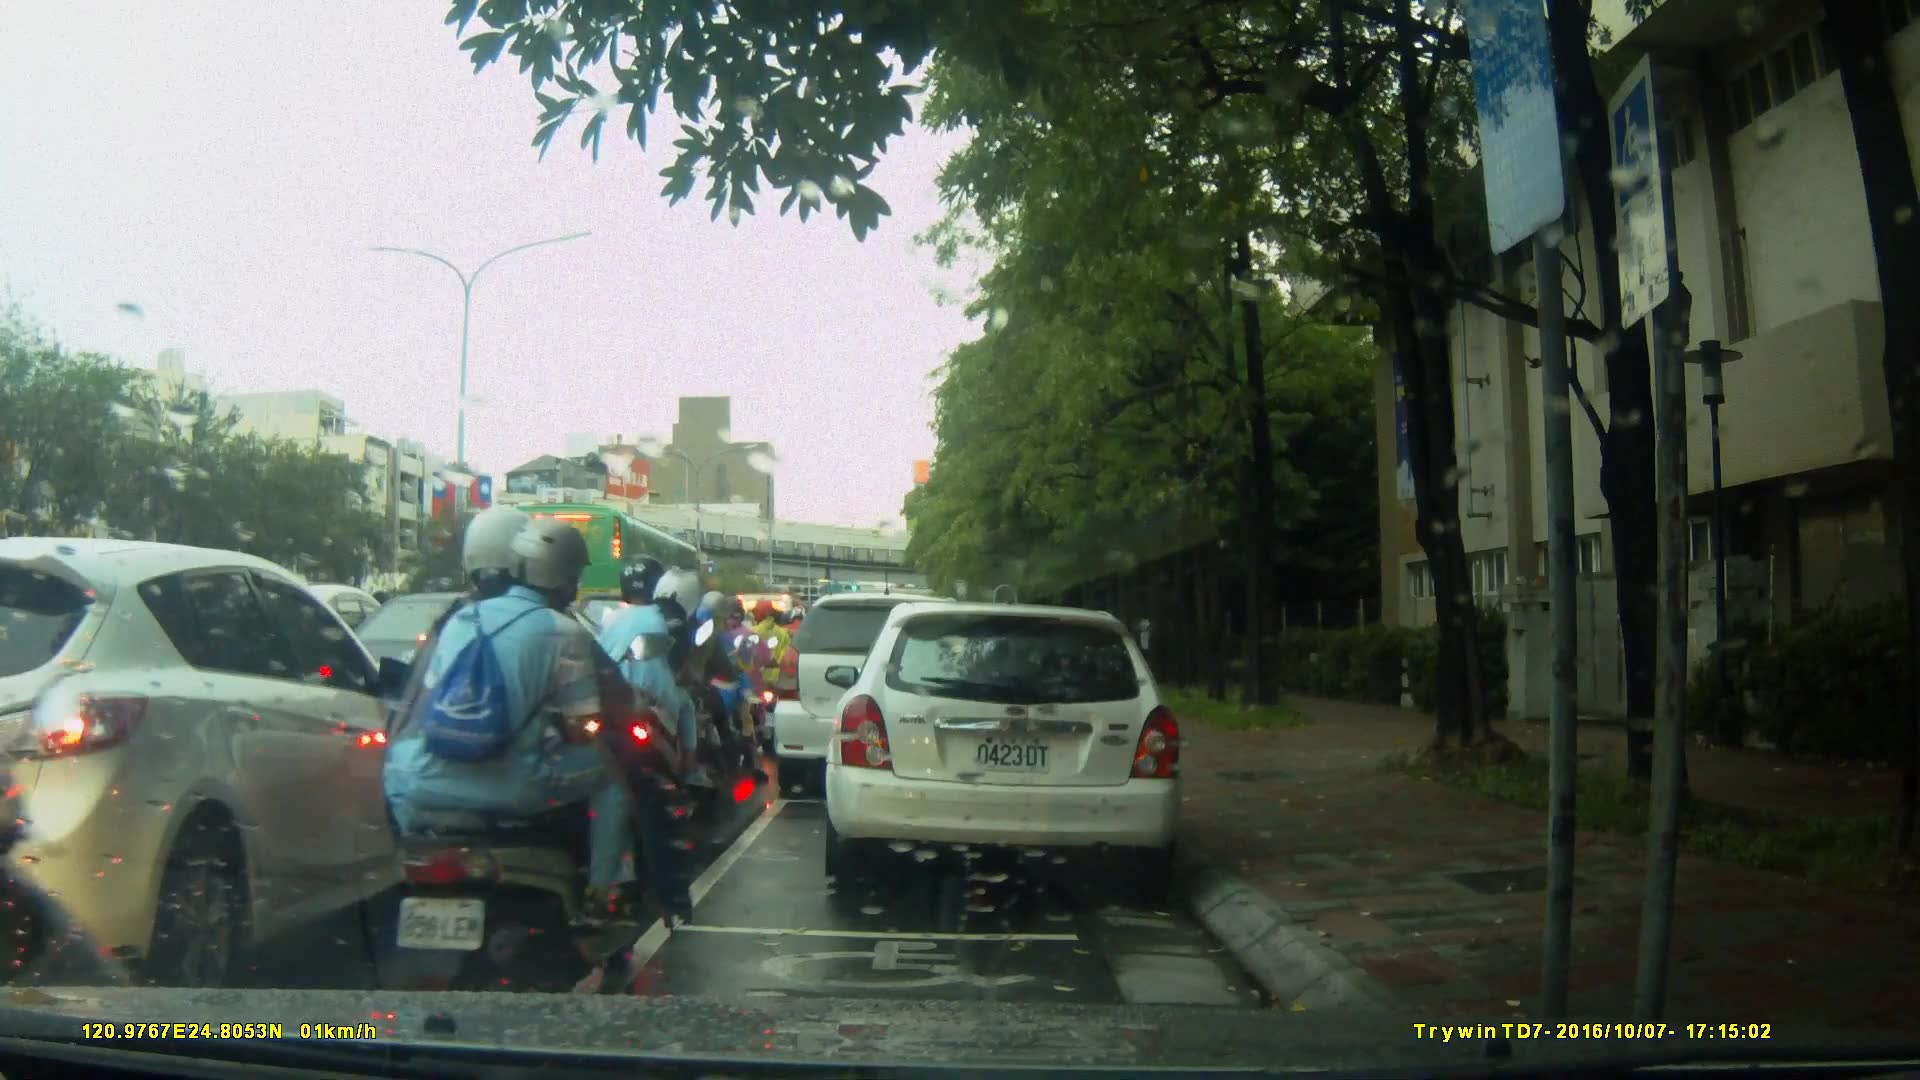rider: (377, 506, 680, 1022), (589, 562, 716, 841), (686, 589, 767, 778), (664, 583, 733, 790), (704, 598, 776, 764), (749, 598, 797, 737)
vehicle: (3, 536, 461, 987), (831, 592, 1196, 897), (312, 590, 629, 776), (772, 590, 999, 803), (496, 501, 712, 636)
